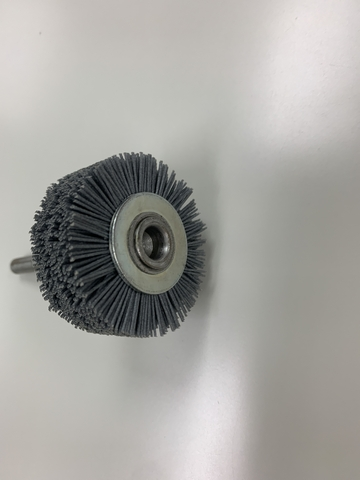Wheel Brush: (5, 143, 205, 341), (15, 155, 180, 349)
